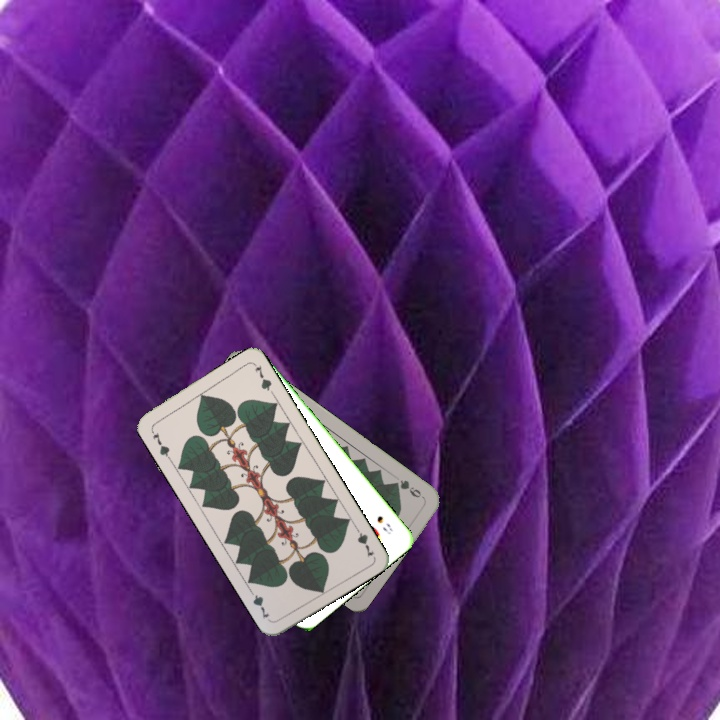G7: (350, 521, 377, 560), (147, 425, 173, 462)
G9: (389, 476, 427, 501)
S8: (373, 512, 395, 537)
